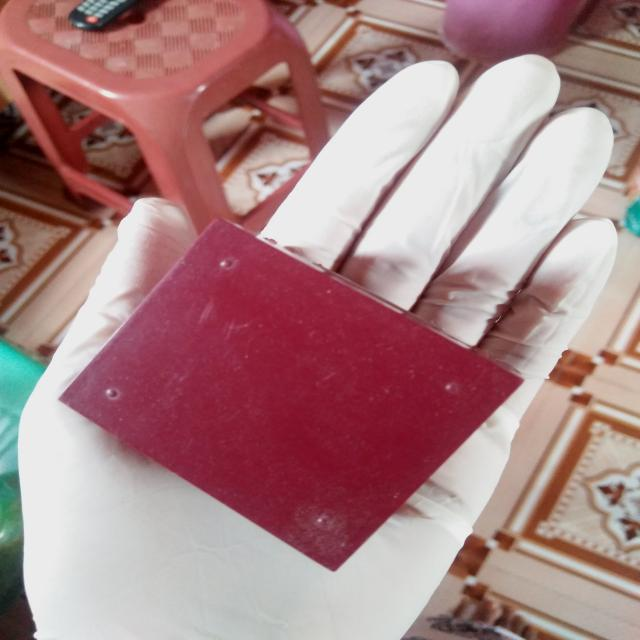glove: (14, 43, 624, 637)
